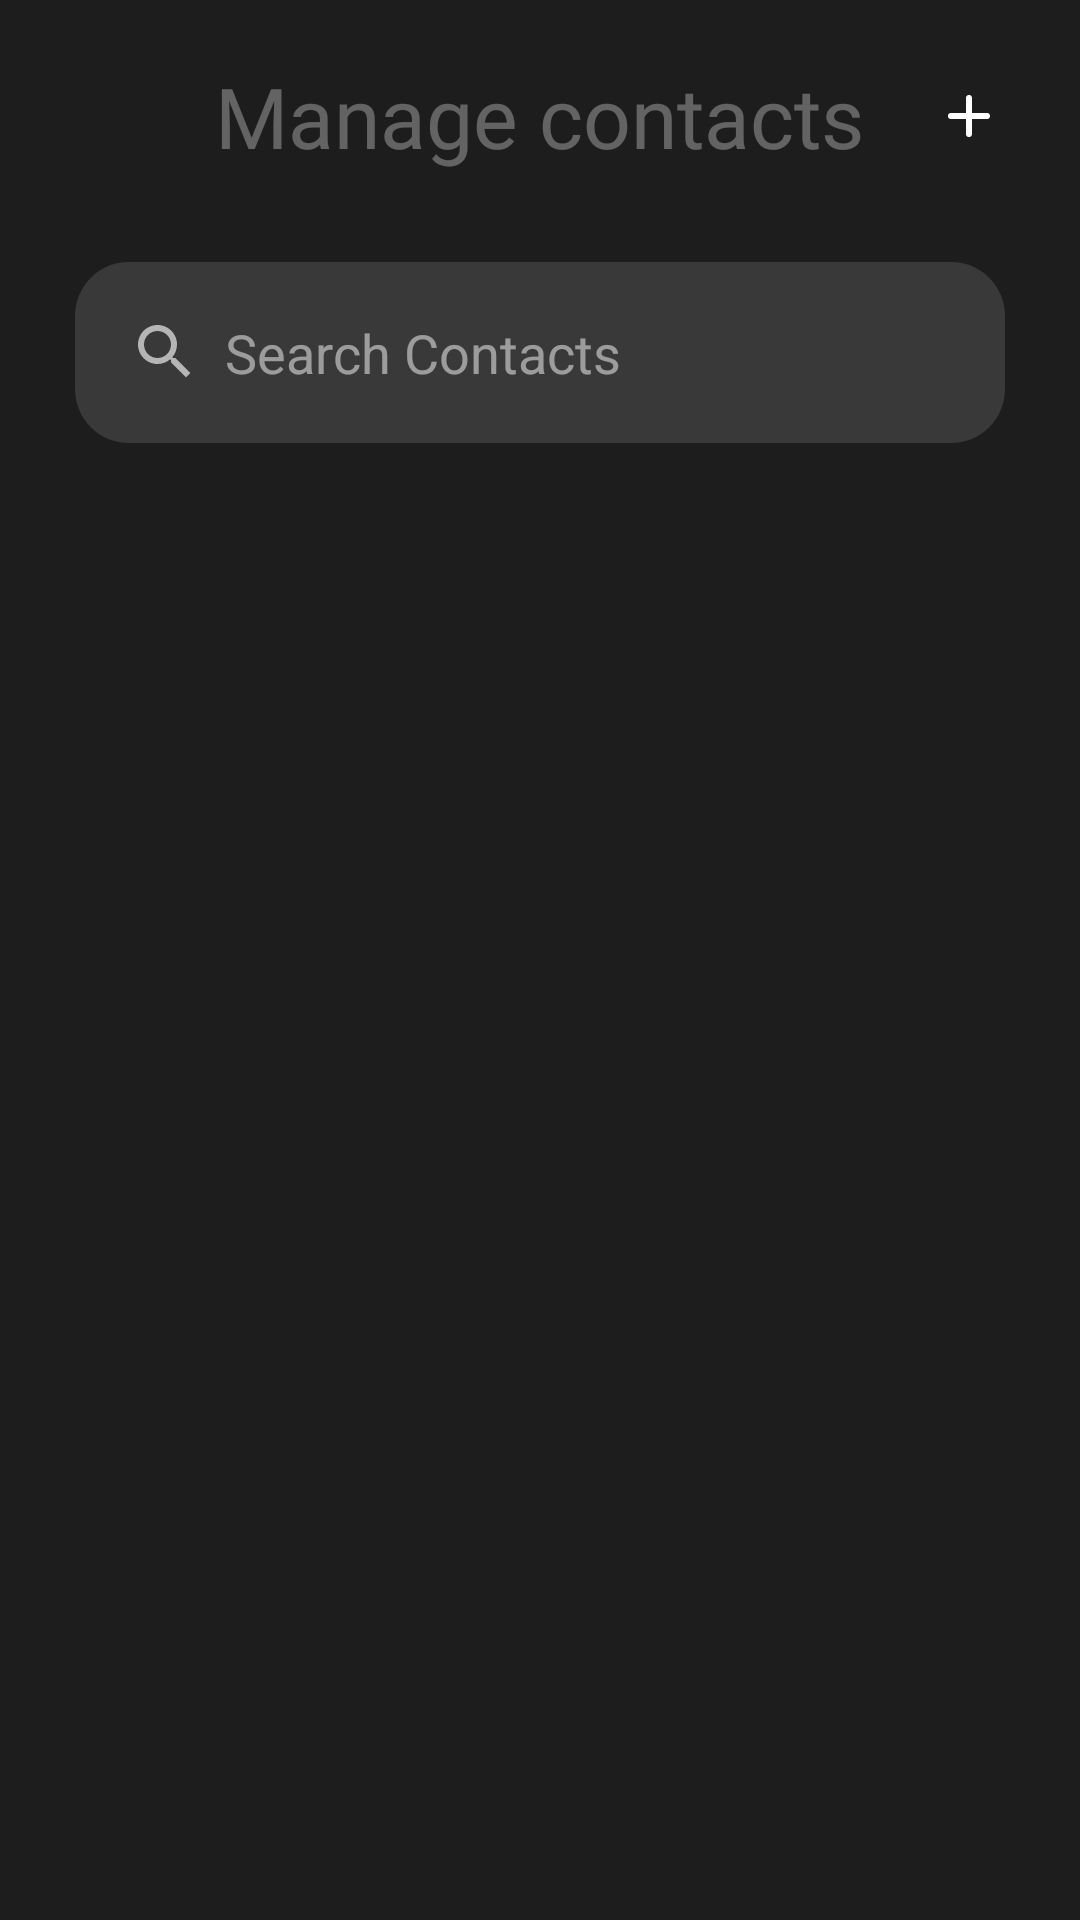

Icons on this 1080×1920 Android screen, each with its box as (x1, y1, x2, y2):
Add contact: (948, 95, 990, 137)
